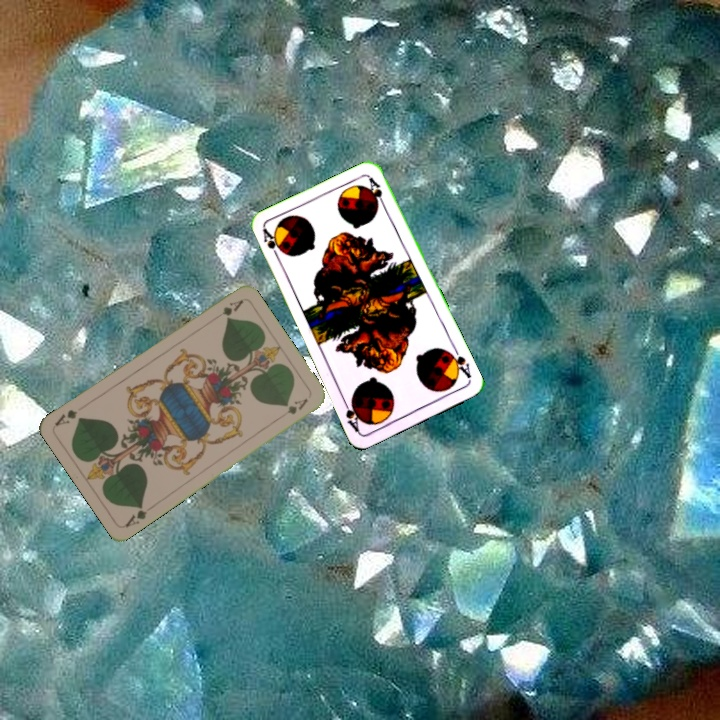GA: (121, 500, 149, 530), (218, 295, 246, 319)
SA: (444, 343, 473, 381), (259, 225, 284, 264)
